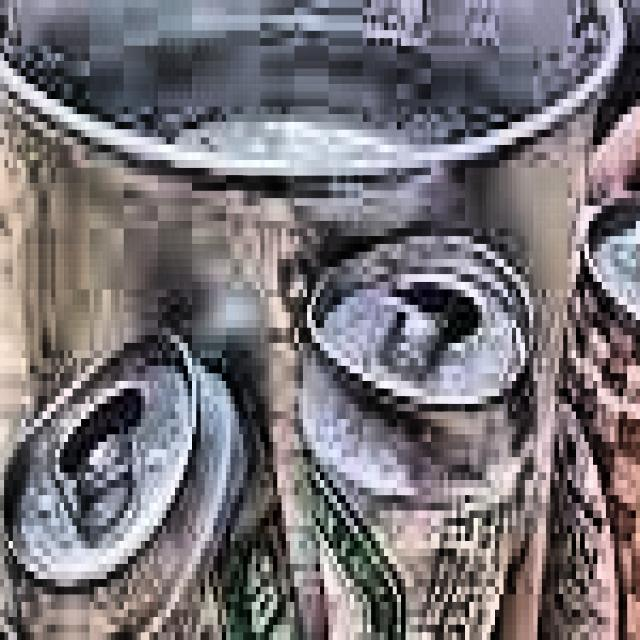metal: (277, 205, 537, 640), (0, 312, 324, 639), (520, 152, 640, 639)
